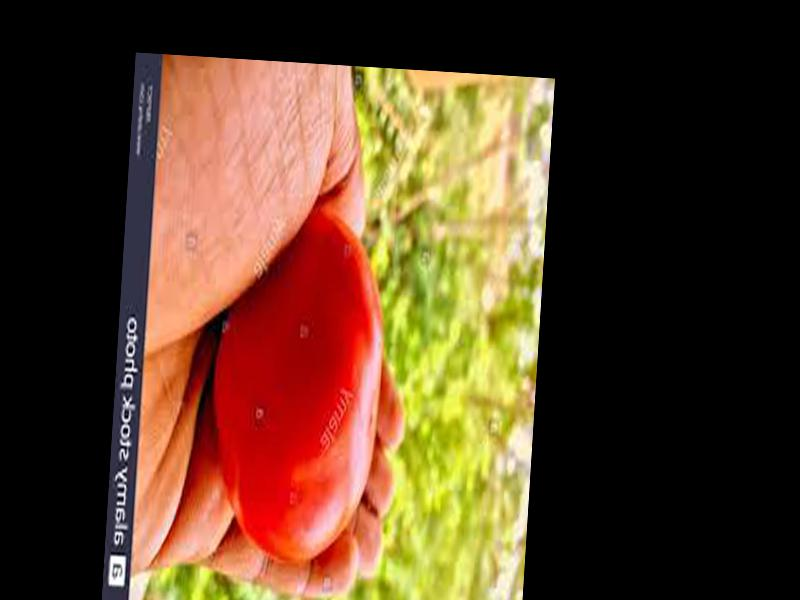Tomato: (204, 209, 388, 564)
